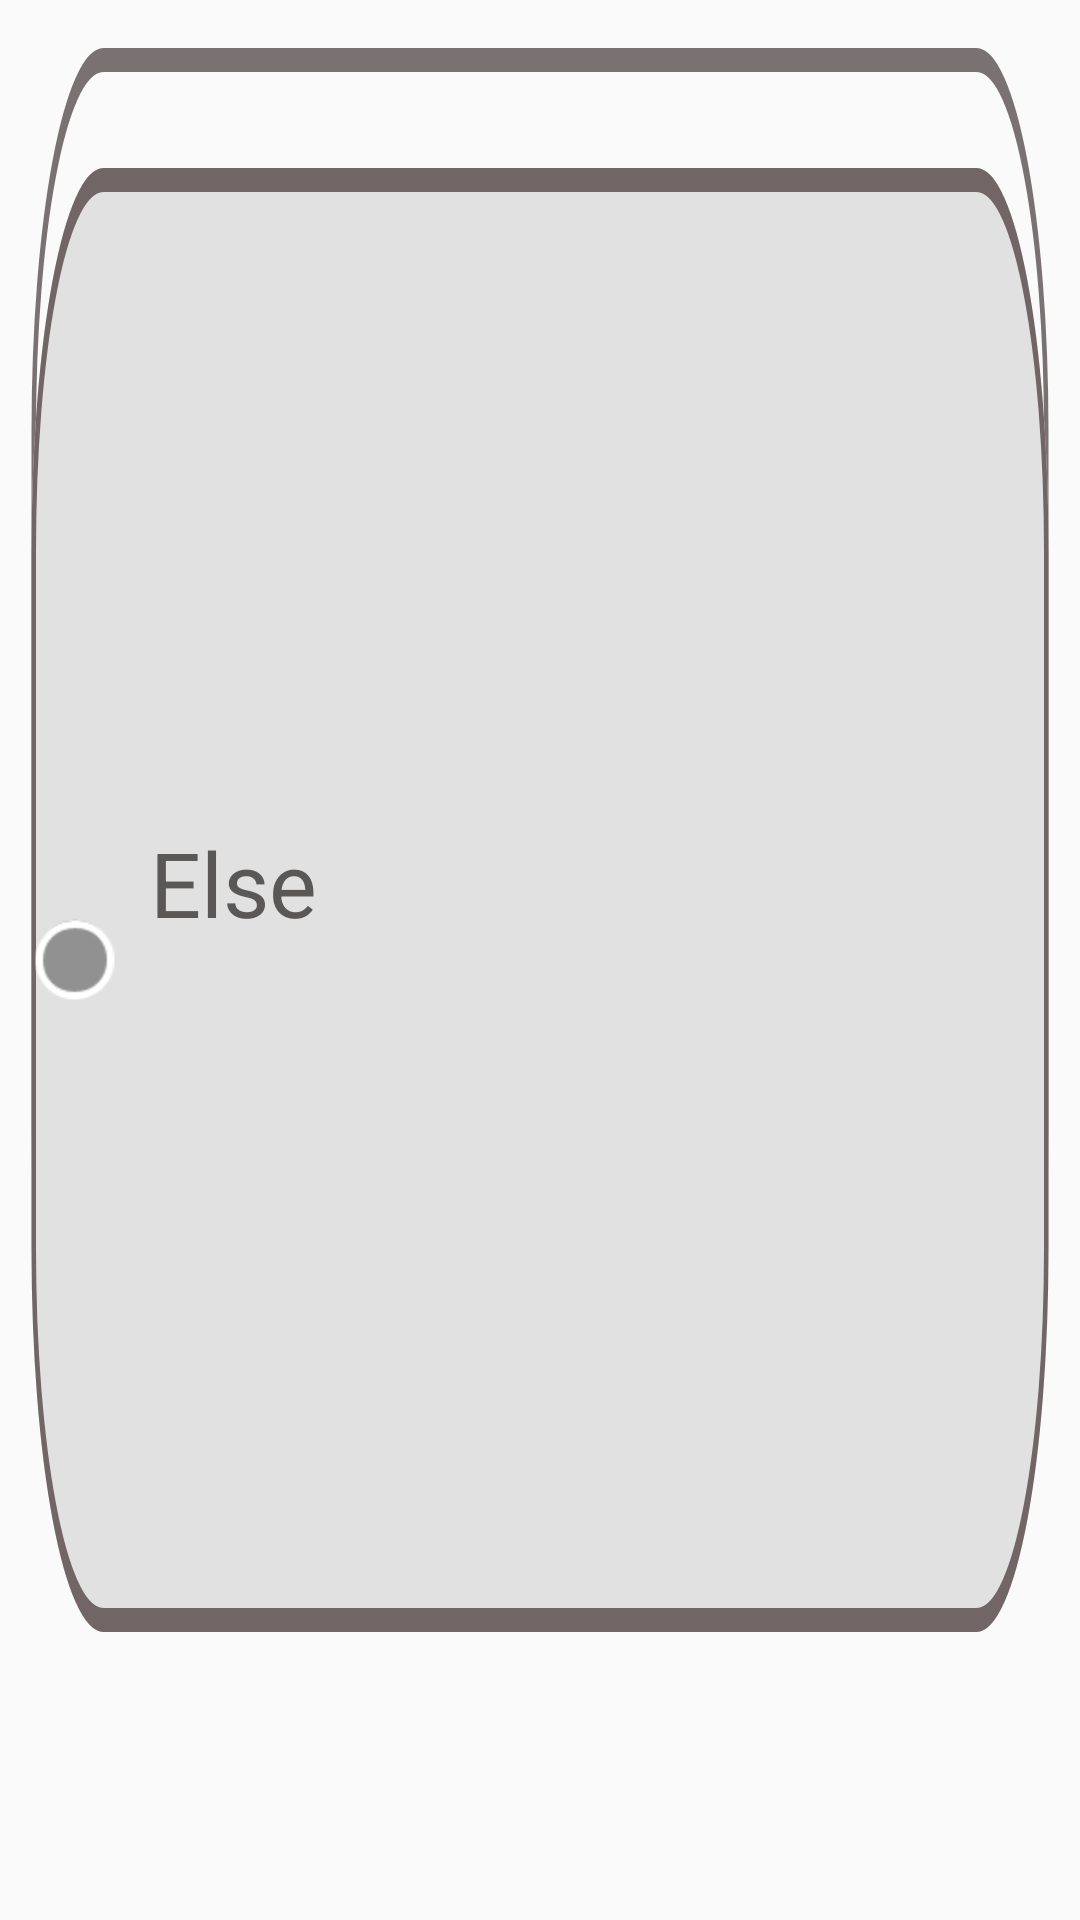

Icon click points for this 1080 × 1920 phone screenshot, format [x,y]:
Breakpoint: [72,960]
